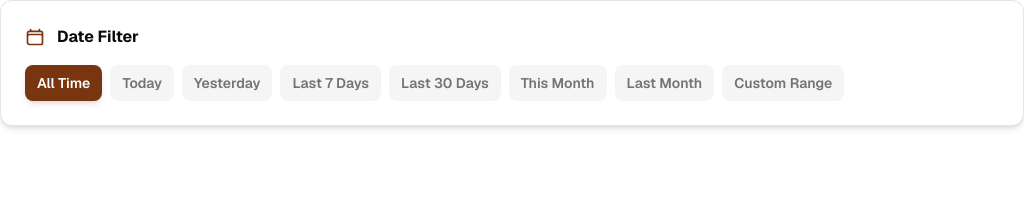
Test case: DateRangePicker Component › Date Range Display › should show formatted date range when dates are selected
This screenshot has width=1024, height=203.
Click the button "Last 7 Days": (331, 83) top-left (280, 65), bottom-right (381, 101)
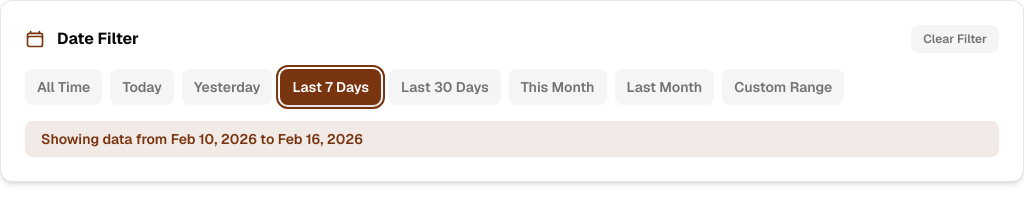
Now the text "Showing data from Feb 10, 2026 to Feb 16, 2026" is shown, box top-left (25, 121), bottom-right (999, 157)
